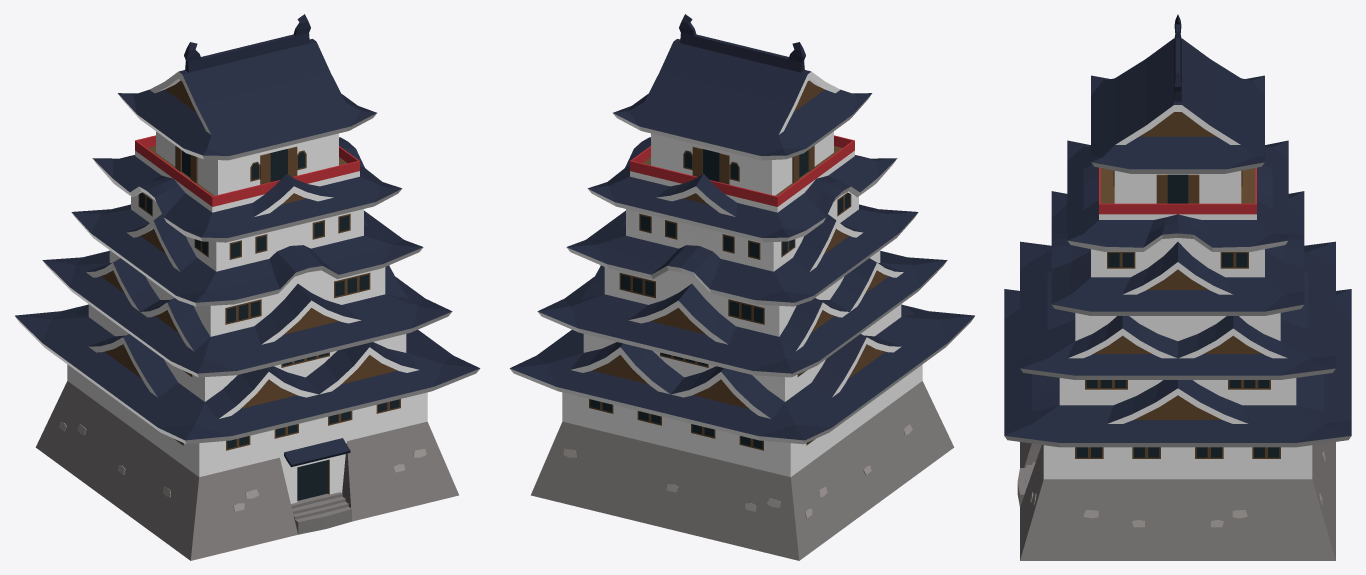
The model's file is castle-japan.glb.
3 renders of one model, left to right at view 1: azimuth 30°, elevation 25°; view 2: azimuth 150°, elevation 25°; view 3: azimuth 270°, elevation 25°, orthographic.
Visible parts, largest first — view 1: castle-japan; view 2: castle-japan; view 3: castle-japan.
Boxes of the visible parts, <box> form: castle-japan: <box>15,14,480,560</box>; castle-japan: <box>509,14,974,560</box>; castle-japan: <box>1004,14,1351,560</box>.
Size of the model in its own units: 22 by 31.55 by 22.
Materials: 1 (1 with a texture image).
